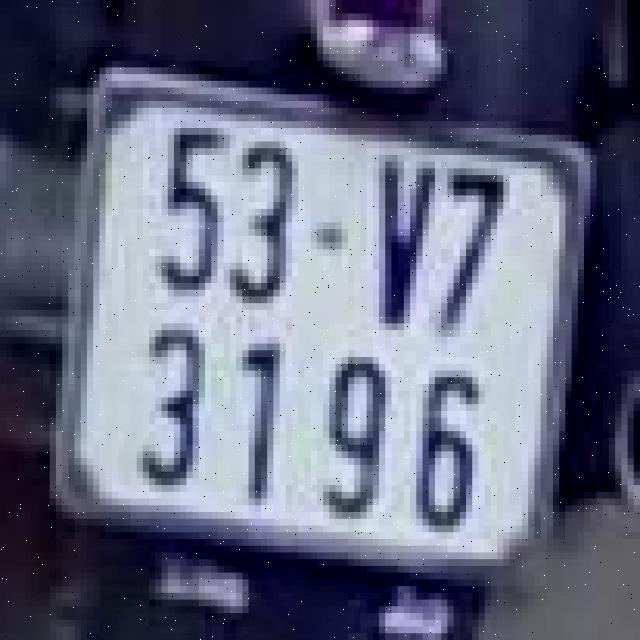1: (227, 327, 289, 515)
3: (140, 310, 208, 498), (233, 138, 295, 327)
5: (149, 111, 230, 307)
6: (410, 350, 497, 539)
7: (444, 152, 506, 347)
9: (317, 340, 398, 529)
V: (367, 142, 435, 344)
